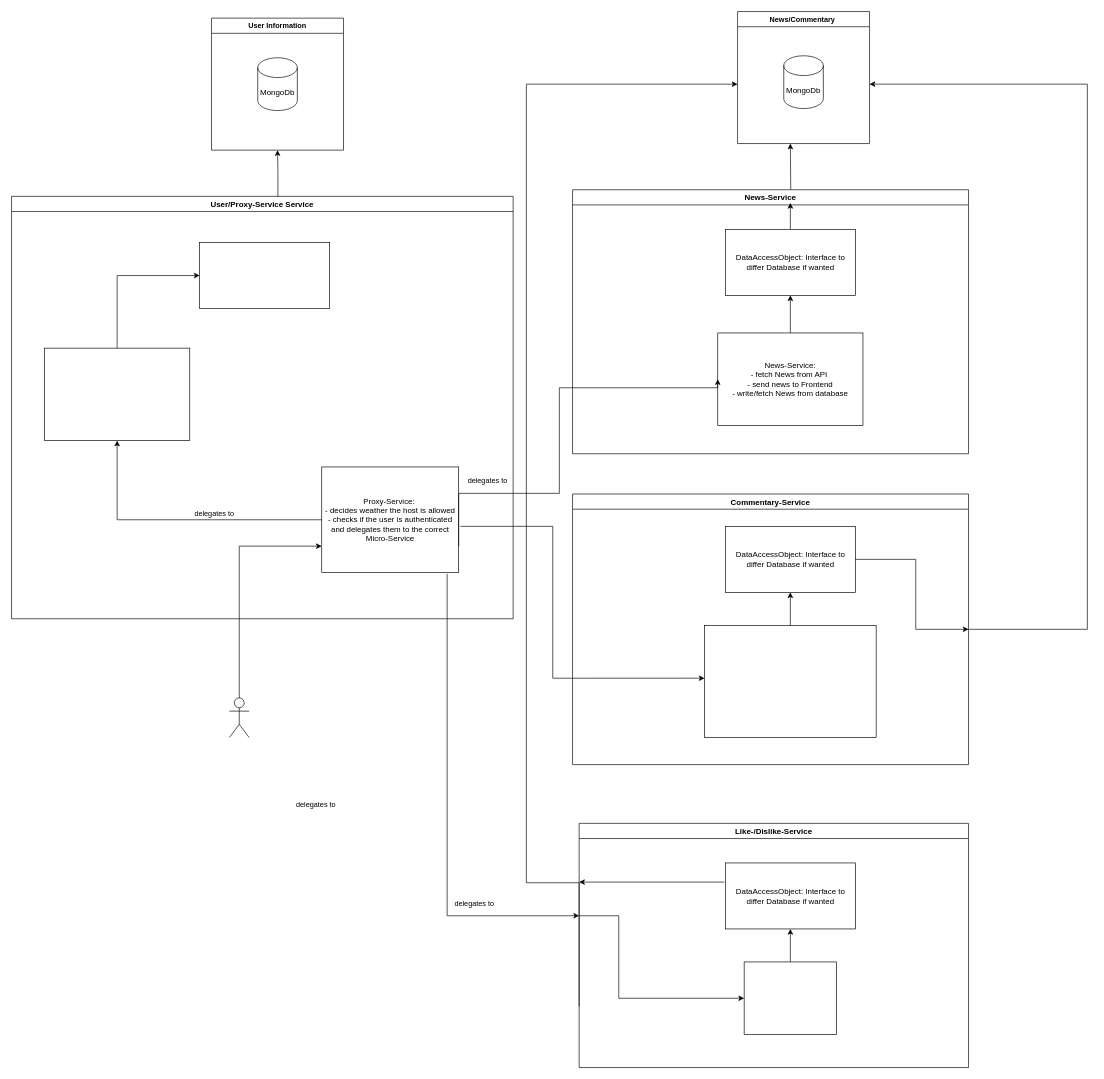
This 1104x1079 diagram has some shape labels left out. The shapes that lost their labels are listed below. From the top down, each one's centre as x and y in pixels, then its label:
pixel 264 275: DataAccessObject
pixel 117 394: authentication Service - check Credentials
pixel 790 681: - Kommentare ertellen
pixel 239 717: Frontend
pixel 790 998: - Likes und Dsilikes verteilen
